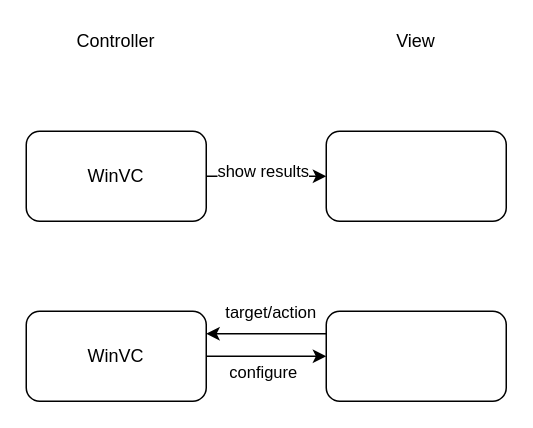
This 533x428 diagram has some shape labels left out. Each missing label, with the centre of its shape:
"labels" belongs at pixel 415 175.
"share button" belongs at pixel 415 355.
